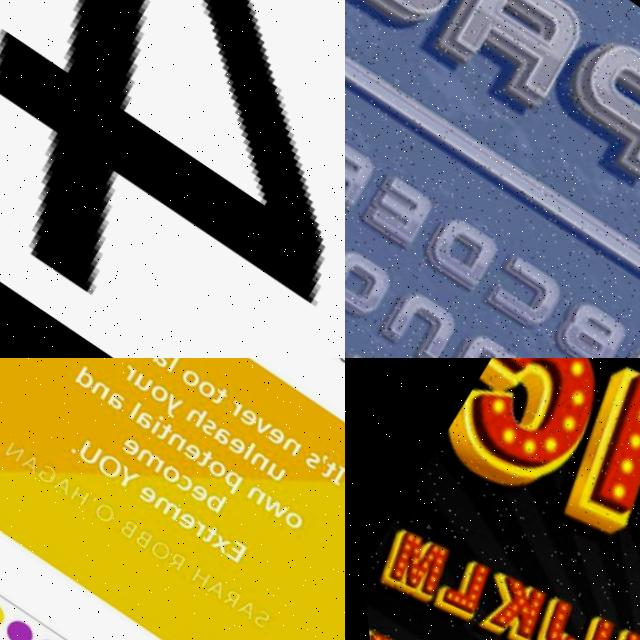A: (203, 423, 226, 445), (225, 596, 248, 618), (195, 575, 218, 597), (44, 474, 67, 495), (127, 408, 149, 429), (99, 389, 121, 410), (11, 452, 33, 473), (144, 358, 166, 367)
B: (193, 487, 219, 512), (123, 527, 144, 548), (109, 517, 129, 538)
C: (166, 472, 187, 492)
D: (66, 363, 93, 390)
E: (213, 537, 239, 562), (230, 404, 253, 427), (179, 480, 202, 503), (127, 483, 151, 505), (218, 433, 241, 455), (167, 508, 189, 530), (257, 423, 280, 444), (173, 439, 196, 460), (112, 435, 134, 456)
G: (27, 462, 50, 484)
H: (176, 402, 201, 426), (59, 484, 82, 505), (179, 565, 201, 585)
I: (320, 462, 341, 483), (140, 413, 160, 434)
L: (233, 440, 249, 458), (120, 400, 136, 418), (158, 358, 176, 371)
M: (143, 493, 173, 519), (127, 446, 157, 471)
N: (240, 447, 264, 470), (272, 433, 296, 455), (81, 378, 105, 400), (158, 430, 182, 451), (236, 483, 259, 504), (0, 441, 16, 461)
O: (84, 450, 118, 481), (171, 365, 197, 389), (187, 375, 212, 399), (150, 461, 176, 484), (196, 455, 221, 478), (138, 538, 163, 561), (141, 380, 165, 403), (271, 507, 296, 529), (84, 501, 107, 523)
P: (209, 466, 236, 493)
R: (210, 587, 231, 607), (156, 550, 177, 570), (114, 362, 132, 380), (219, 397, 237, 415), (181, 519, 198, 535)
S: (190, 414, 212, 435), (293, 448, 315, 468), (240, 607, 261, 627)
T: (310, 456, 332, 478), (186, 446, 207, 468), (190, 522, 210, 544), (203, 384, 223, 405), (147, 420, 167, 441)
U: (66, 437, 96, 467), (124, 371, 148, 392), (256, 460, 278, 480)
V: (244, 414, 267, 435)
W: (251, 492, 281, 518)
X: (200, 531, 223, 552)
Y: (104, 463, 133, 490), (154, 392, 178, 417)
